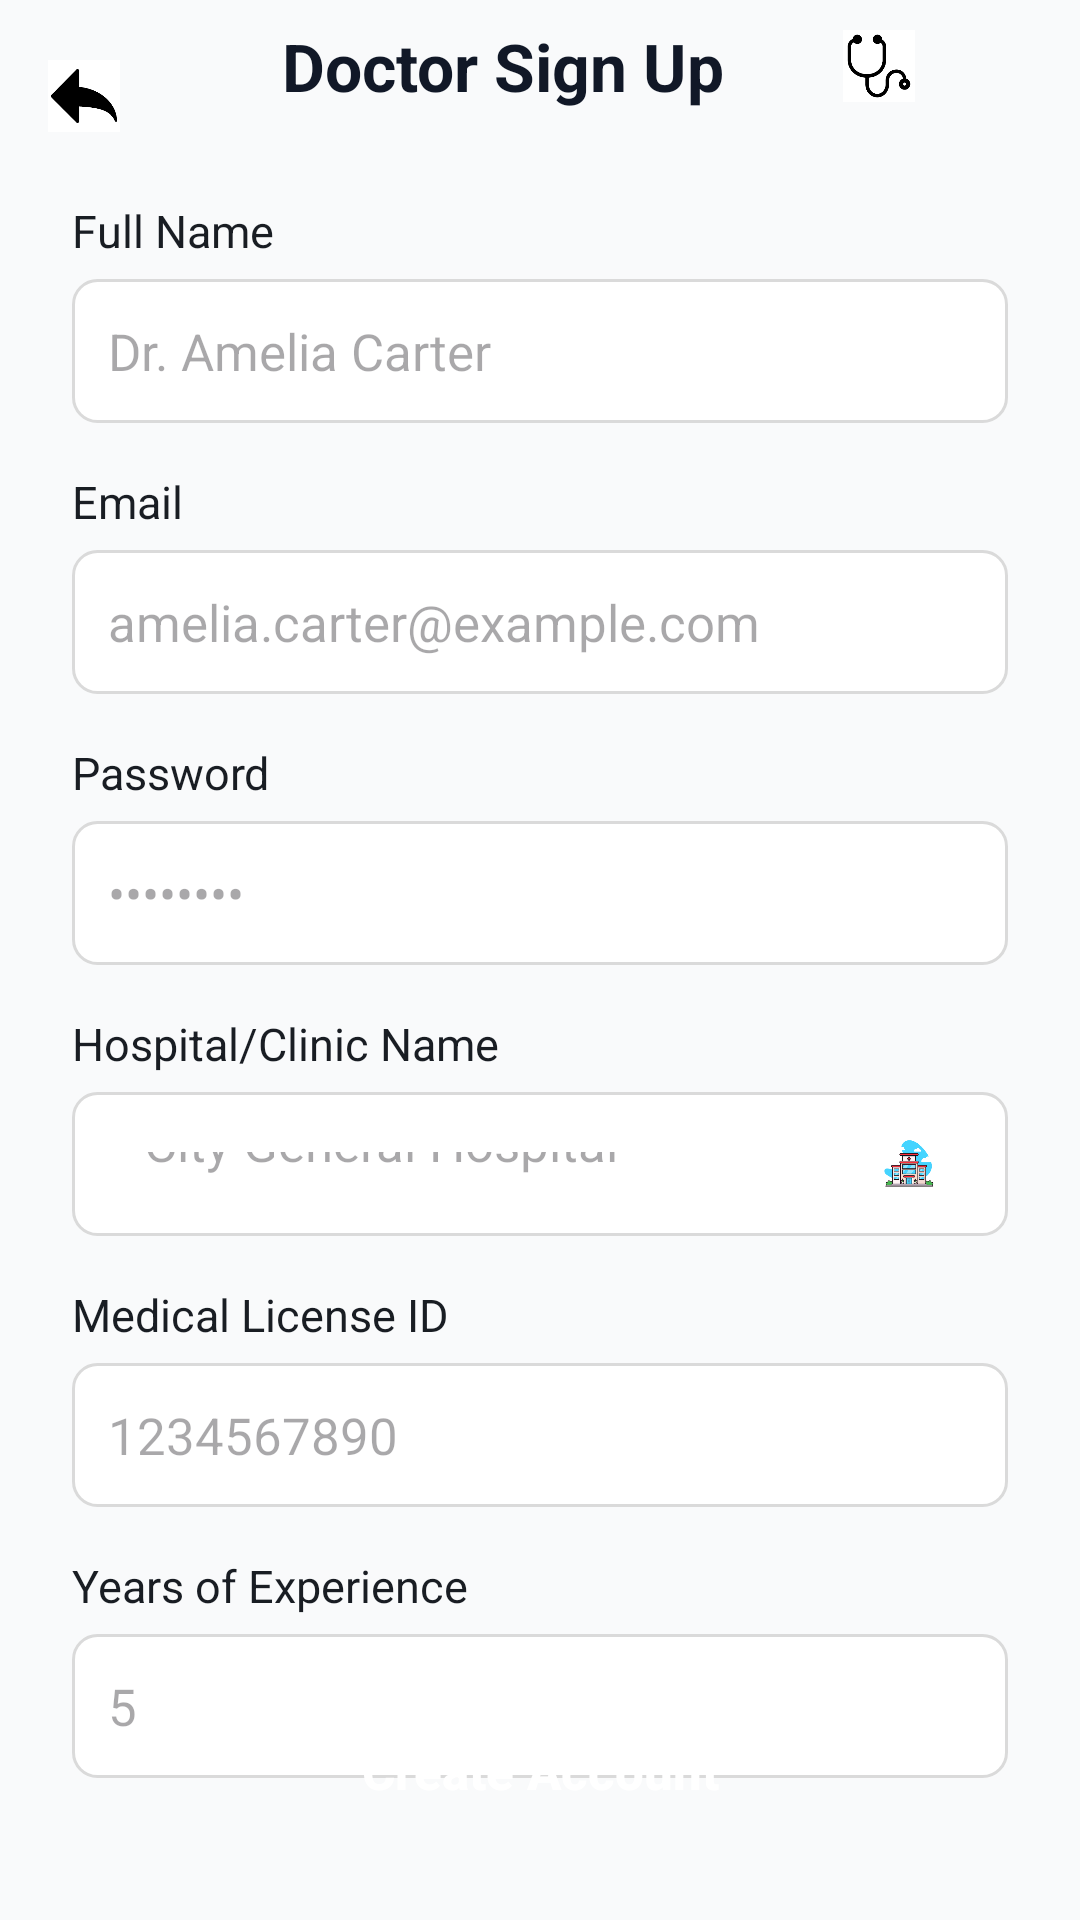

Icons on this 1080 × 1920 Android screen, each with the point to tap as (x,y):
Back: (84,96)
Stethoscope icon: (879,66)
